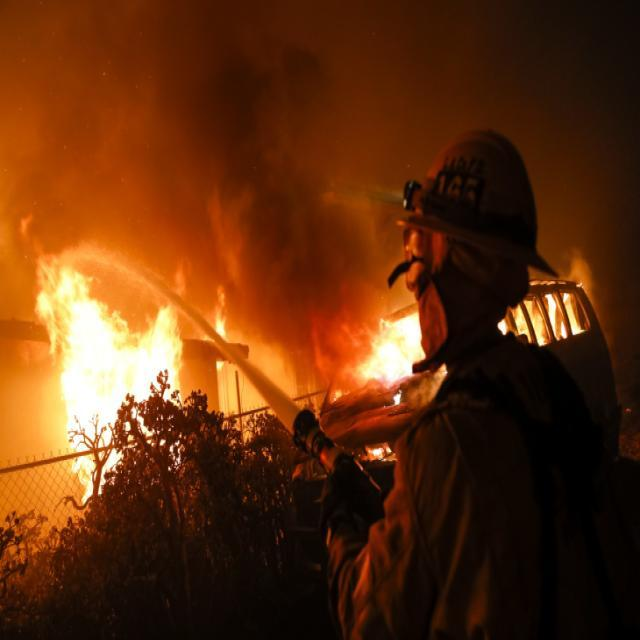Smoke: (177, 0, 391, 421)
